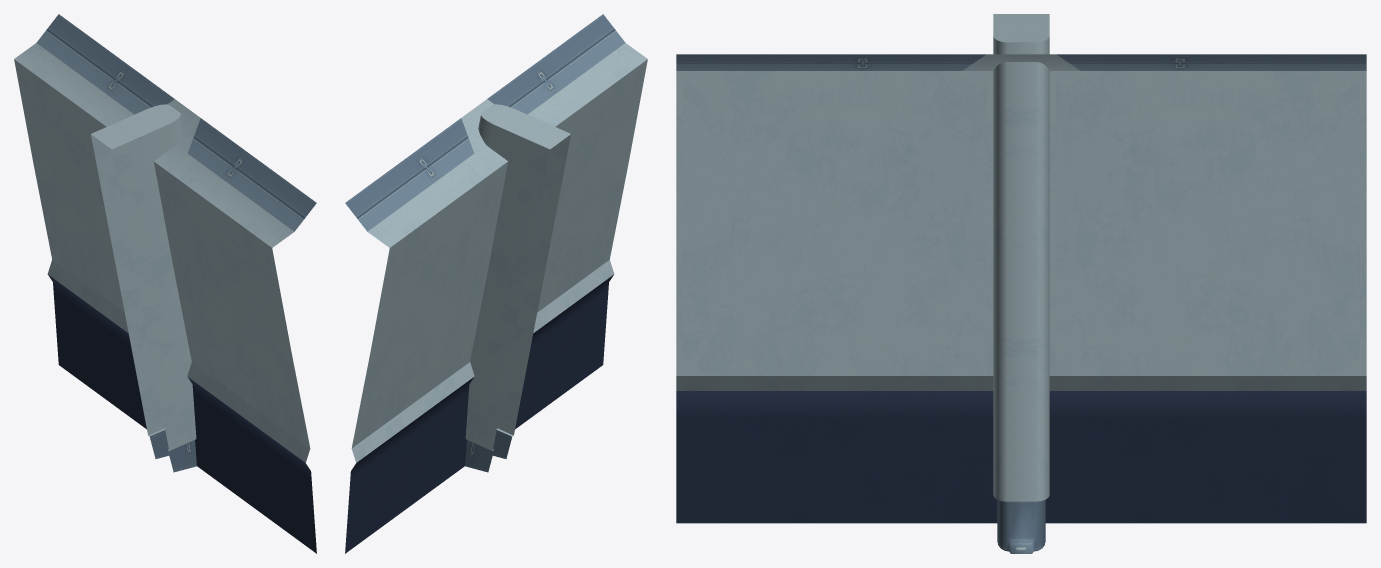
File: WallAstra_Straight.gltf
3 renders of one model, left to right at view 1: azimuth 30°, elevation 25°; view 2: azimuth 150°, elevation 25°; view 3: azimuth 270°, elevation 25°, orthographic. The views are drawn at different scales.
Visible parts, largest first — view 1: WallAstra_Straight; view 2: WallAstra_Straight; view 3: WallAstra_Straight.
Part boxes in pixels (<box>): WallAstra_Straight: <box>14,14,316,553</box>; WallAstra_Straight: <box>345,14,647,553</box>; WallAstra_Straight: <box>676,14,1366,553</box>.
Size of the model in its own units: 1.21 by 3.03 by 4.
Materials: 4 (4 with a texture image).
